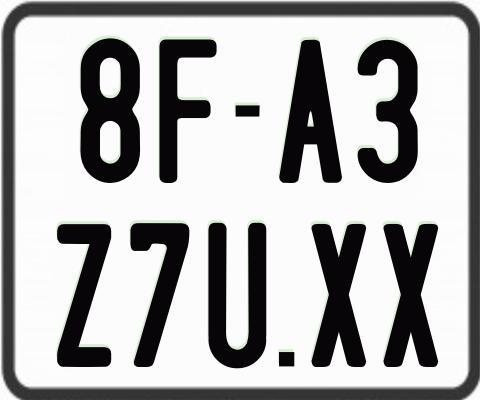3: (357, 38, 421, 181)
7: (130, 220, 189, 368)
8: (77, 38, 138, 186)
A: (279, 40, 342, 189)
F: (157, 38, 219, 184)
U: (208, 221, 270, 369)
X: (309, 223, 369, 367), (381, 223, 436, 369)
Z: (57, 222, 115, 367)
